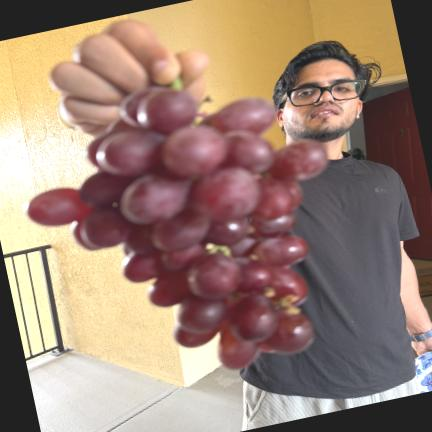grape_cluster: (26, 87, 328, 369)
